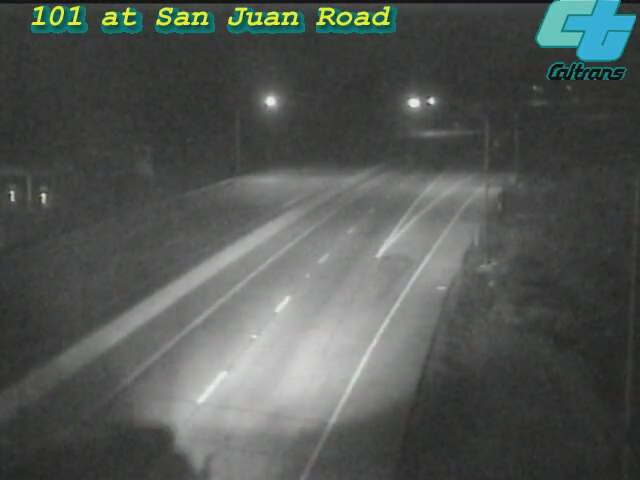vehicle: (62, 406, 172, 480)
